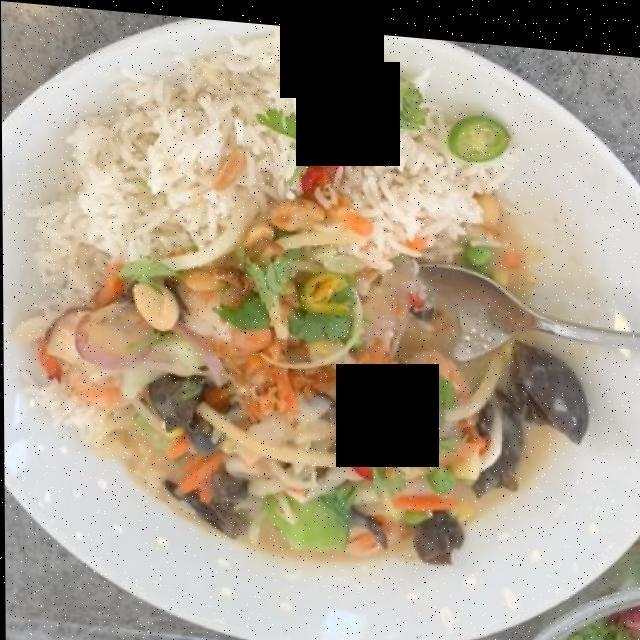mixed-vegetables: (52, 249, 581, 555)
nut: (9, 142, 330, 340)
rice: (41, 36, 530, 317)
shrimp: (398, 344, 475, 391)
